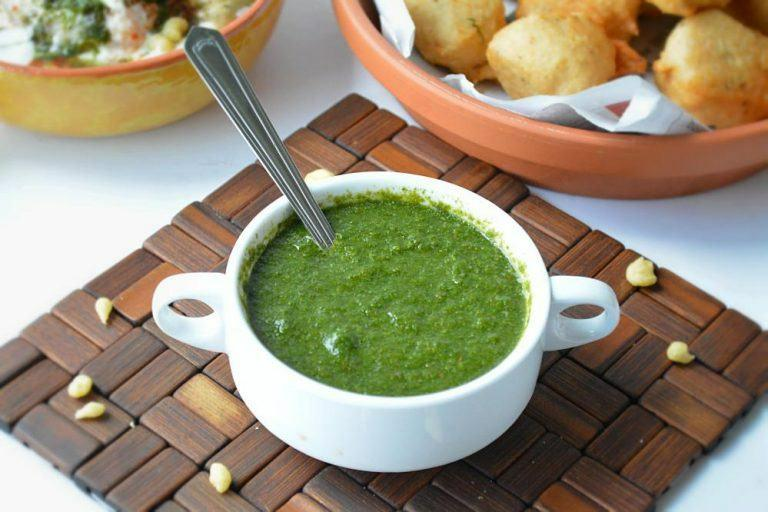GreenChutney: (245, 197, 525, 394)
